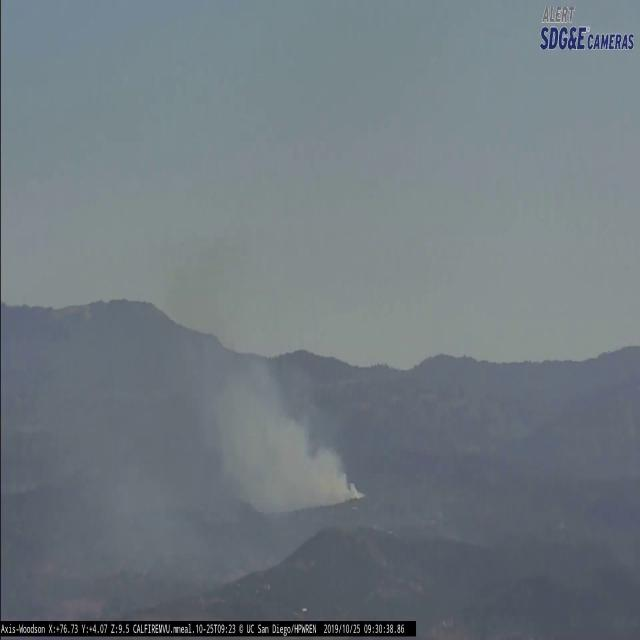smoke: (147, 274, 362, 578), (7, 258, 149, 582)
